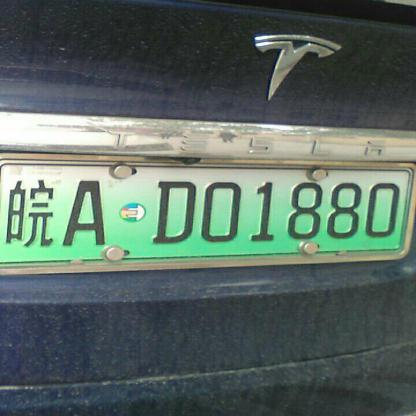lp: (3, 157, 5, 267)
